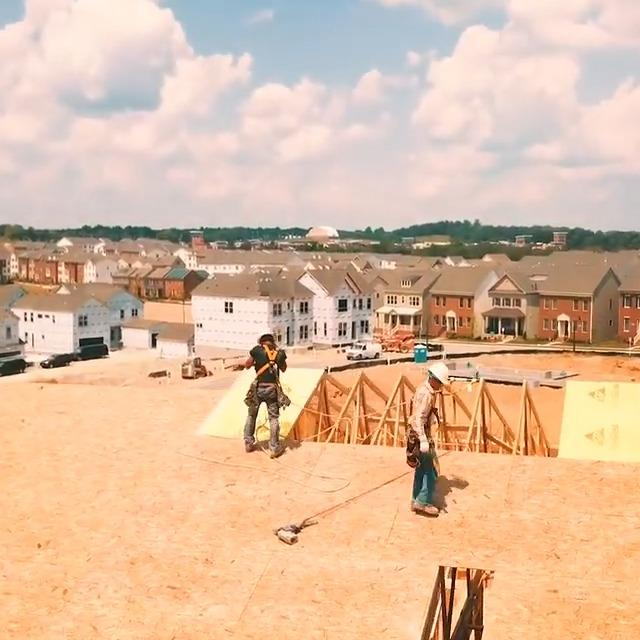Gloves: (420, 437, 429, 453)
Hardhat: (427, 363, 449, 385), (257, 329, 274, 343)
NO-Mask: (432, 383, 441, 390)
NO-Safety Vest: (253, 346, 281, 384)
Person: (407, 363, 449, 514), (243, 328, 287, 458)
machinery: (381, 332, 415, 353)
vehicle: (346, 341, 382, 360), (73, 343, 109, 361), (0, 357, 26, 377), (40, 353, 73, 368)
